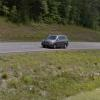Car: (39, 31, 76, 53)
